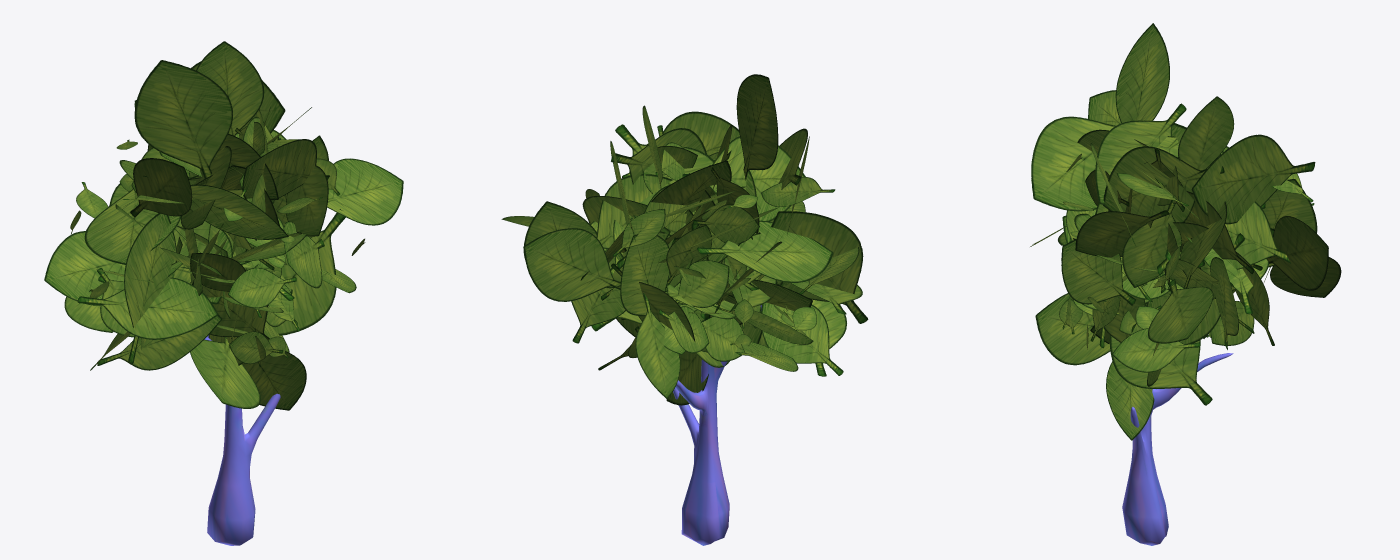
Rendered from Trees.fbx.
The picture shows the model from 3 angles, left to right: view 1: azimuth 30°, elevation 25°; view 2: azimuth 150°, elevation 25°; view 3: azimuth 270°, elevation 25°; orthographic projection. The views are drawn at different scales.
Visible parts, largest first — view 1: Plane.353; view 2: Plane.353; view 3: Plane.353.
Part boxes in pixels (box(x1,y1,x2,y2)): Plane.353: box(44, 41, 403, 545); Plane.353: box(501, 74, 868, 545); Plane.353: box(1030, 23, 1341, 545).
Size of the model in its own units: 449 by 567 by 403.
